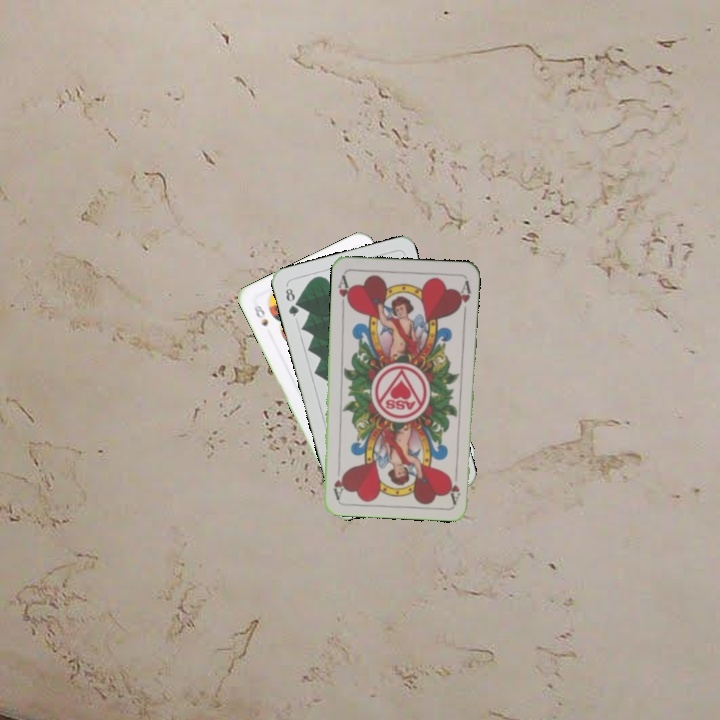G8: (281, 282, 302, 319)
HA: (334, 271, 354, 311), (445, 464, 463, 505)
S8: (250, 301, 271, 329)
